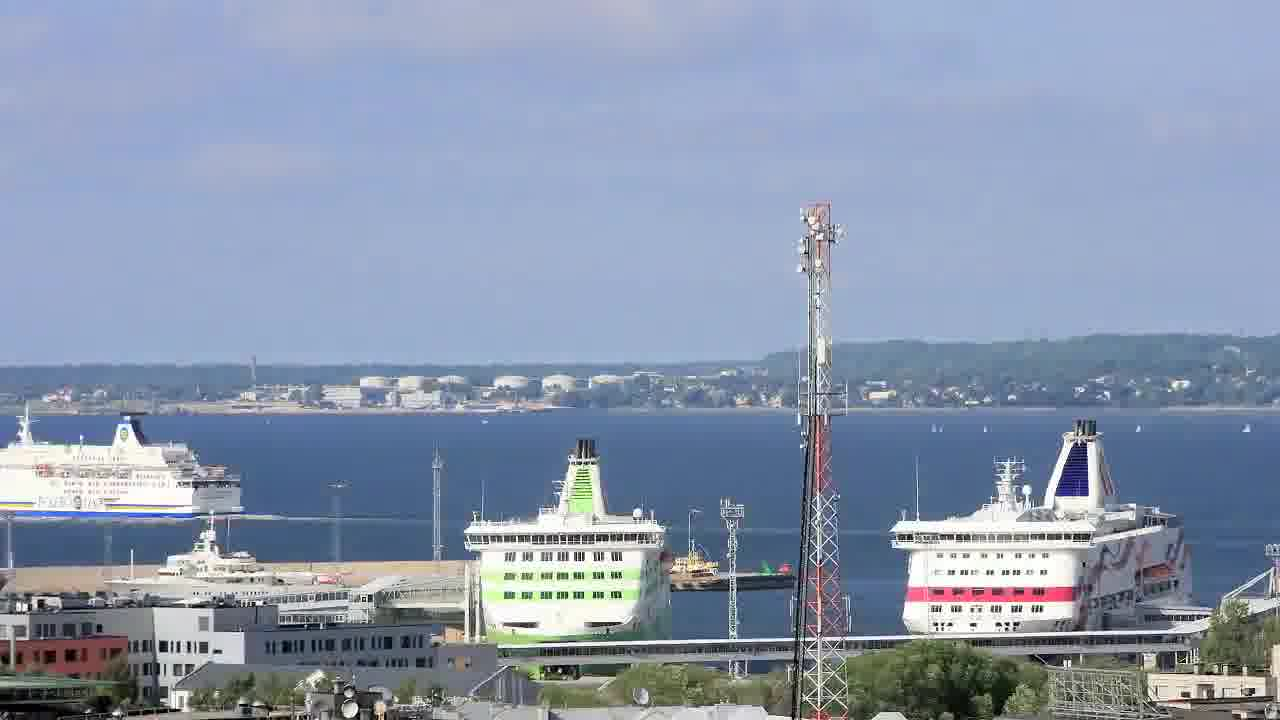type-3: (868, 415, 1225, 638), (436, 434, 694, 670), (98, 512, 380, 631), (0, 401, 252, 521)
